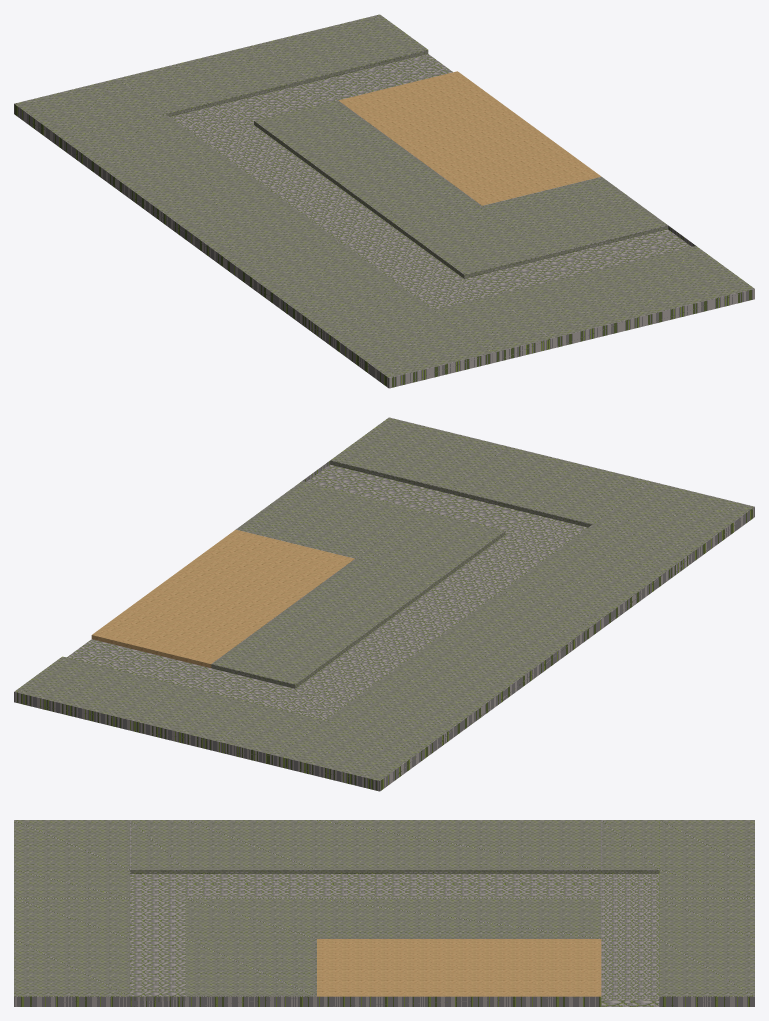
File: floor.fbx
3 renders of one model, top to bottom at view 1: azimuth 30°, elevation 25°; view 2: azimuth 150°, elevation 25°; view 3: azimuth 270°, elevation 25°, orthographic.
Visible parts, largest first — view 1: Plane.002; view 2: Plane.002; view 3: Plane.002.
Part boxes in pixels (x1,y1,x2,y2): Plane.002: (14,14,754,388); Plane.002: (14,417,754,791); Plane.002: (14,820,754,1006).
Size of the model in its own units: 1695 by 46.18 by 3008.
Materials: 3 (3 with a texture image).
